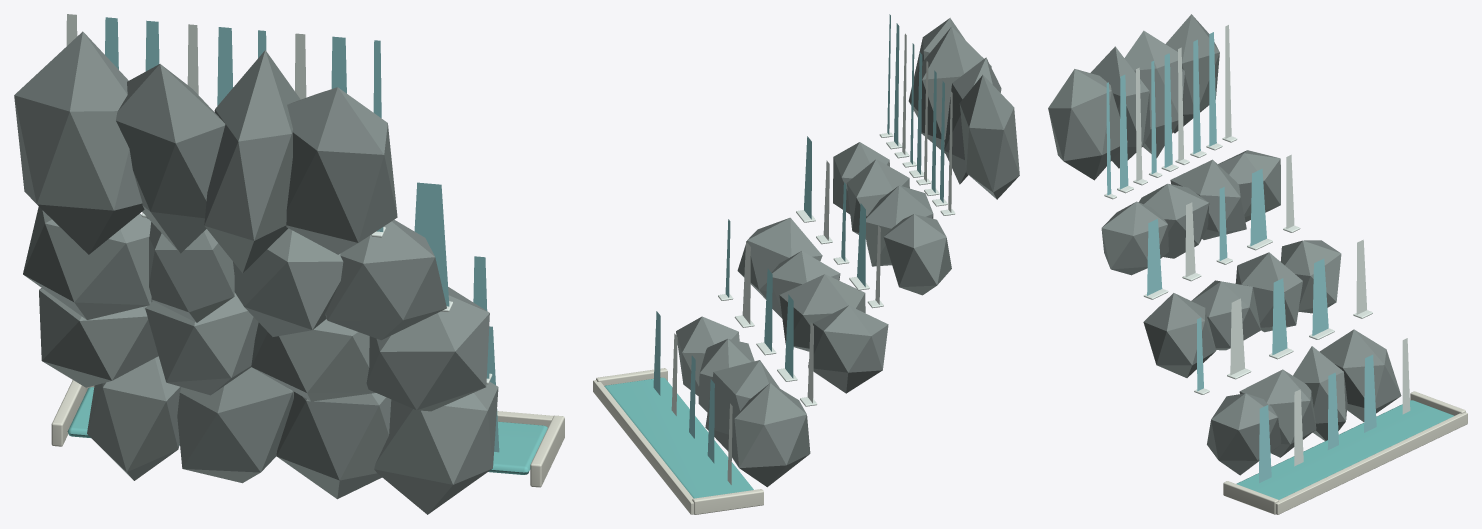
The model's file is water.glb.
3 renders of one model, left to right at view 1: azimuth 30°, elevation 25°; view 2: azimuth 150°, elevation 25°; view 3: azimuth 270°, elevation 25°, orthographic. The views are drawn at different scales.
Visible parts, largest first — view 1: Cascade fractured rock tier 3 block 0, Cascade fractured rock tier 3 block 3, Cascade fractured rock tier 3 block 2, Cascade fractured rock tier 3 block 1, Cascade fractured rock tier 0 block 3, Cascade fractured rock tier 1 block 3, Cascade fractured rock tier 0 block 1, Cascade fractured rock tier 2 block 3, Cascade fractured rock tier 2 block 0, Cascade fractured rock tier 0 block 2, Cascade fractured rock tier 2 block 2, Cascade fractured rock tier 0 block 0 (+17 smaller); view 2: Upper collection pool, Cascade fractured rock tier 0 block 0, Cascade fractured rock tier 3 block 0, Cascade fractured rock tier 1 block 0, Cascade fractured rock tier 2 block 0, Cascade fractured rock tier 3 block 2, Cascade fractured rock tier 1 block 1, Cascade fractured rock tier 1 block 3, Cascade fractured rock tier 0 block 1, Cascade fractured rock tier 2 block 1, Cascade fractured rock tier 2 block 2, Cascade fractured rock tier 0 block 3 (+17 smaller); view 3: Upper collection pool, Cascade fractured rock tier 3 block 3, Cascade fractured rock tier 1 block 3, Cascade fractured rock tier 0 block 3, Cascade fractured rock tier 0 block 0, Cascade fractured rock tier 2 block 3, Cascade fractured rock tier 3 block 1, Pool front low coping, Cascade fractured rock tier 1 block 1, Cascade fractured rock tier 0 block 2, Cascade fractured rock tier 2 block 1, Cascade fractured rock tier 1 block 2 (+30 smaller).
Boxes of the visible parts, left/top/right/bottom form: Cascade fractured rock tier 3 block 0: left=14, top=31, right=144, bottom=254; Cascade fractured rock tier 3 block 3: left=286, top=87, right=397, bottom=254; Cascade fractured rock tier 3 block 2: left=204, top=50, right=300, bottom=273; Cascade fractured rock tier 3 block 1: left=116, top=64, right=225, bottom=253; Cascade fractured rock tier 0 block 3: left=374, top=382, right=498, bottom=514; Cascade fractured rock tier 1 block 3: left=366, top=287, right=489, bottom=411; Cascade fractured rock tier 0 block 1: left=177, top=367, right=293, bottom=483; Cascade fractured rock tier 2 block 3: left=325, top=219, right=446, bottom=340; Cascade fractured rock tier 2 block 0: left=23, top=206, right=151, bottom=319; Cascade fractured rock tier 0 block 2: left=276, top=392, right=391, bottom=499; Cascade fractured rock tier 2 block 2: left=233, top=228, right=343, bottom=336; Cascade fractured rock tier 0 block 0: left=87, top=356, right=181, bottom=480; Upper collection pool: left=604, top=377, right=753, bottom=498; Cascade fractured rock tier 0 block 0: left=732, top=383, right=810, bottom=487; Cascade fractured rock tier 3 block 0: left=959, top=75, right=1019, bottom=199; Cascade fractured rock tier 1 block 0: left=808, top=305, right=888, bottom=393; Cascade fractured rock tier 2 block 0: left=883, top=214, right=951, bottom=295; Cascade fractured rock tier 3 block 2: left=921, top=27, right=991, bottom=153; Cascade fractured rock tier 1 block 1: left=779, top=274, right=865, bottom=351; Cascade fractured rock tier 1 block 3: left=737, top=217, right=822, bottom=299; Cascade fractured rock tier 0 block 1: left=705, top=360, right=779, bottom=451; Cascade fractured rock tier 2 block 1: left=865, top=185, right=933, bottom=266; Cascade fractured rock tier 2 block 2: left=846, top=159, right=909, bottom=238; Cascade fractured rock tier 0 block 3: left=676, top=316, right=739, bottom=395; Upper collection pool: left=1236, top=400, right=1454, bottom=499; Cascade fractured rock tier 3 block 3: left=1048, top=69, right=1127, bottom=180; Cascade fractured rock tier 1 block 3: left=1143, top=293, right=1216, bottom=377; Cascade fractured rock tier 0 block 3: left=1207, top=393, right=1281, bottom=475; Cascade fractured rock tier 0 block 0: left=1319, top=329, right=1401, bottom=421; Cascade fractured rock tier 2 block 3: left=1101, top=201, right=1168, bottom=275; Cascade fractured rock tier 3 block 1: left=1124, top=30, right=1184, bottom=158; Pool front low coping: left=1275, top=412, right=1467, bottom=514; Cascade fractured rock tier 1 block 1: left=1235, top=252, right=1302, bottom=332; Cascade fractured rock tier 0 block 2: left=1239, top=369, right=1316, bottom=457; Cascade fractured rock tier 2 block 1: left=1170, top=159, right=1246, bottom=239; Cascade fractured rock tier 1 block 2: left=1191, top=280, right=1260, bottom=350.
Size of the model in its own units: 16.41 by 15.71 by 16.93.
